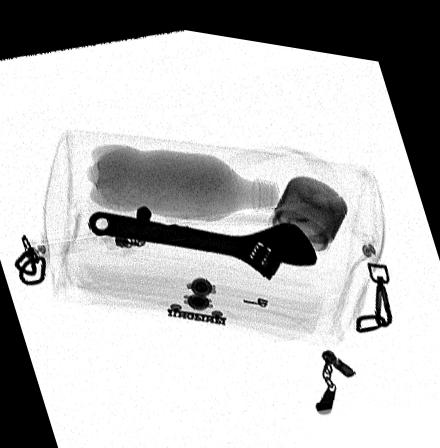Wrench: (89, 207, 317, 271)
